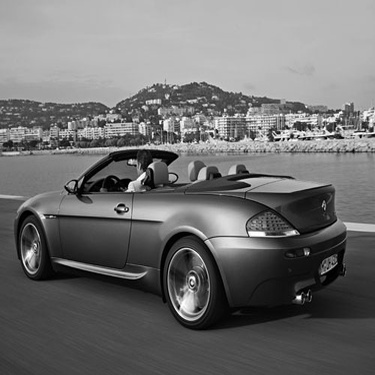car: (8, 138, 352, 338)
